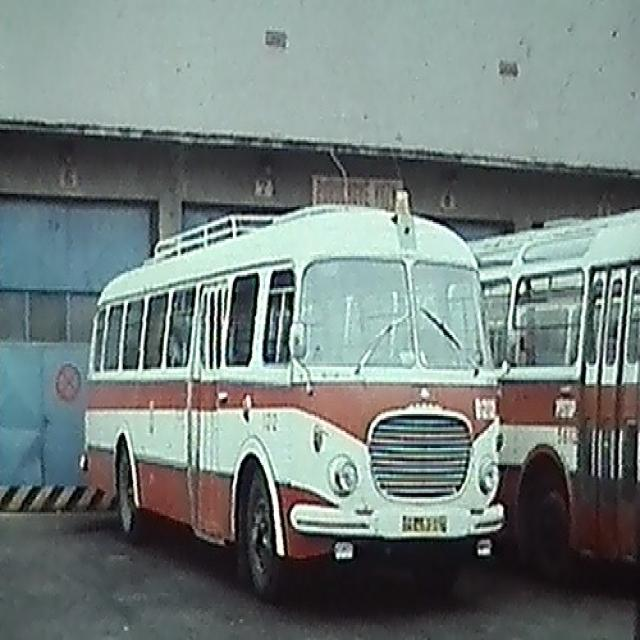bus: (83, 195, 507, 599), (461, 206, 640, 588)
